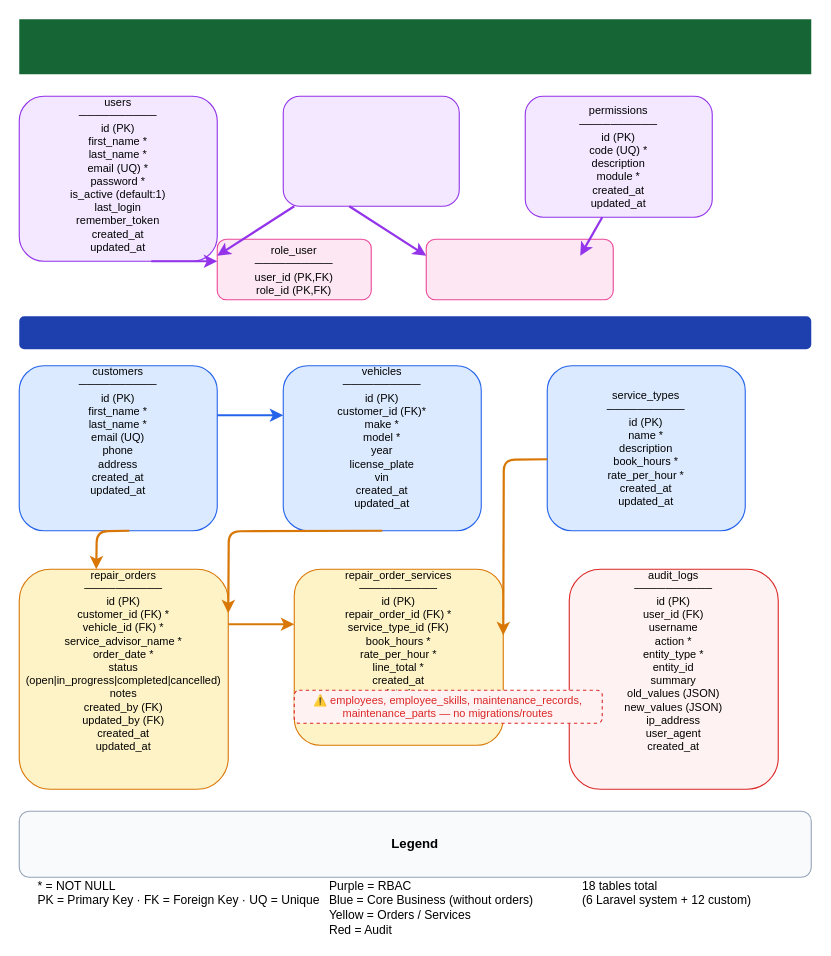
The diagram is 831 pixels wide and 956 high, and some of its shapes have lost their labels. Each missing label, with the centre of its shape:
"Core Entities" goes at pixel 415 332.
"Database Schema — im_indivproject" goes at pixel 415 46.
"permission_role ────────── permission_id (PK,FK) role_id (PK,FK)" goes at pixel 519 269.
"roles ────────── id (PK) name (UQ) * display_name * created_at updated_at" goes at pixel 370 150.
